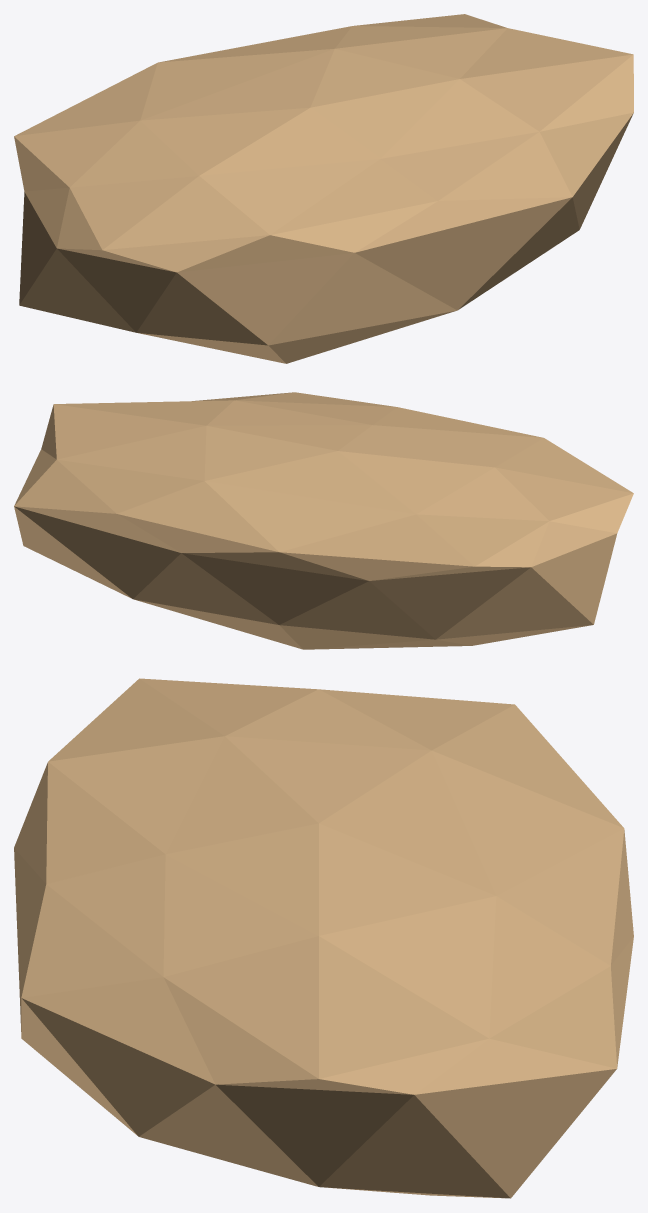
Rendered from rock_flat_sandstone.glb.
3 views of the same model, one above another, from view 1: azimuth 30°, elevation 25°; view 2: azimuth 150°, elevation 25°; view 3: azimuth 270°, elevation 25° (orthographic). The views are drawn at different scales.
Parts seen in each view (by area): view 1: Low sandstone slab; view 2: Low sandstone slab; view 3: Low sandstone slab.
Part boxes in pixels (x1,y1,x2,y2): Low sandstone slab: [14, 14, 633, 363]; Low sandstone slab: [14, 392, 633, 649]; Low sandstone slab: [14, 678, 633, 1198].
Bounding box in the file's own units: 2.02 × 0.5798 × 1.27.
